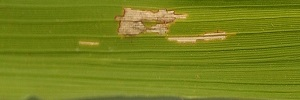RiceBacterialBlight: (108, 4, 241, 51)
